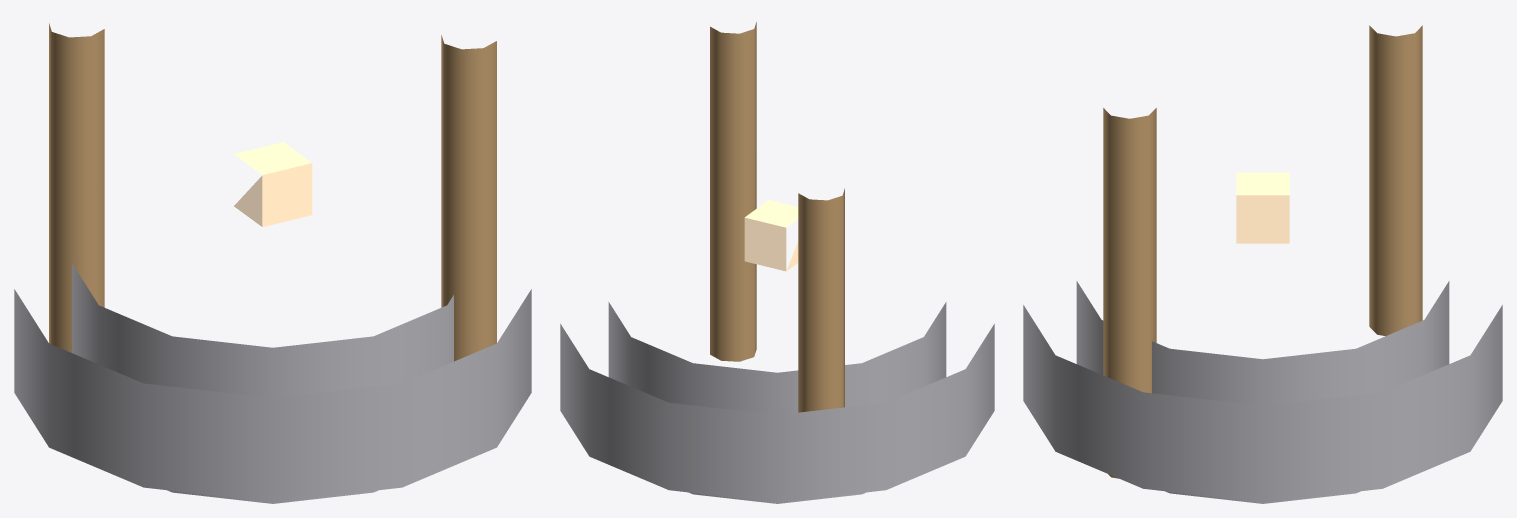
Rendered from alambre_cobre.glb.
3 renders of one model, left to right at view 1: azimuth 30°, elevation 25°; view 2: azimuth 150°, elevation 25°; view 3: azimuth 270°, elevation 25°, orthographic. The views are drawn at different scales.
Parts seen in each view (by area): view 1: Base, Accent, Glow; view 2: Base, Accent, Glow; view 3: Base, Accent, Glow.
Boxes of the visible parts, <box> form: Base: <box>14,263,531,503</box>; Accent: <box>49,23,496,361</box>; Glow: <box>234,142,312,227</box>; Base: <box>560,302,994,503</box>; Accent: <box>710,22,844,412</box>; Glow: <box>744,200,798,271</box>; Base: <box>1023,281,1502,503</box>; Accent: <box>1103,25,1422,478</box>; Glow: <box>1236,172,1289,243</box>.
Bounding box in the file's own units: 0.36 × 0.31 × 0.36.
